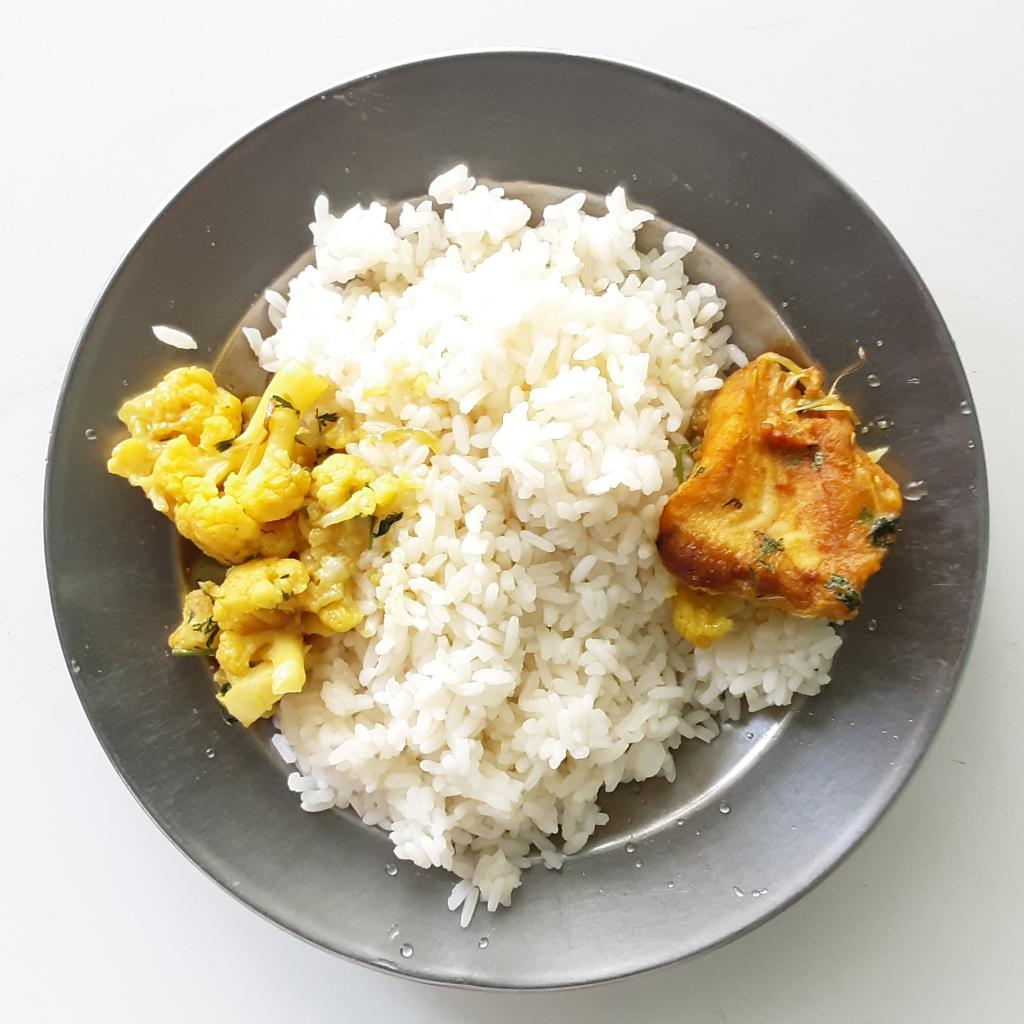cauliflower: (105, 365, 400, 730)
fish: (646, 345, 906, 624)
rice: (240, 160, 842, 924), (155, 320, 201, 350)
